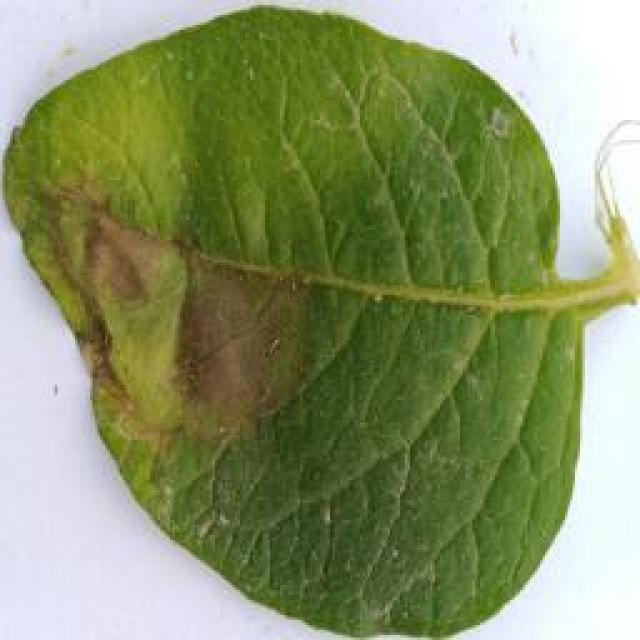Potato_Late_Blight: (1, 11, 614, 637)
